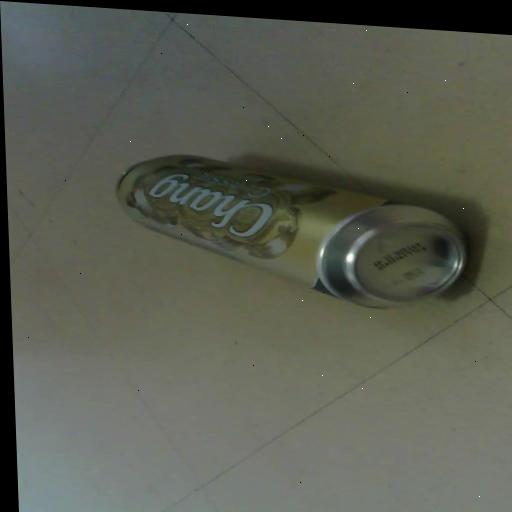canned: (98, 142, 477, 318)
